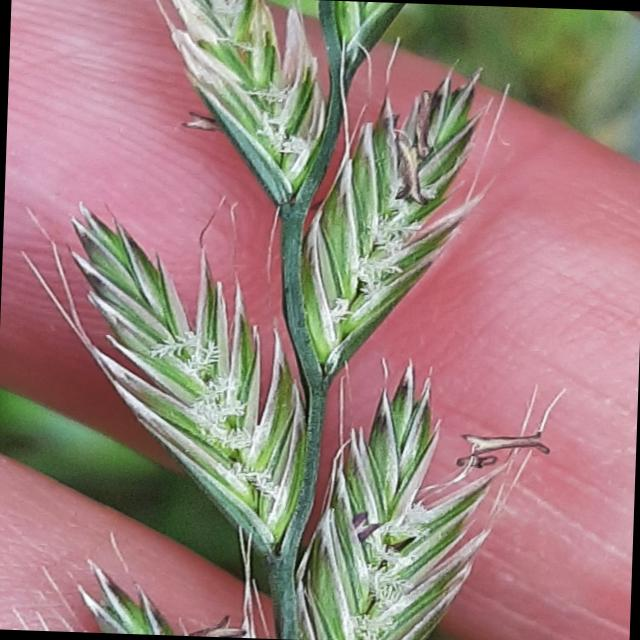Lolium: (6, 0, 577, 640)
